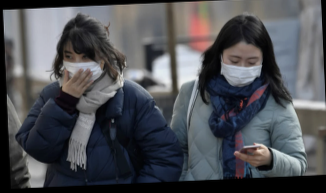with_mask: (219, 53, 263, 88), (61, 48, 101, 85)
